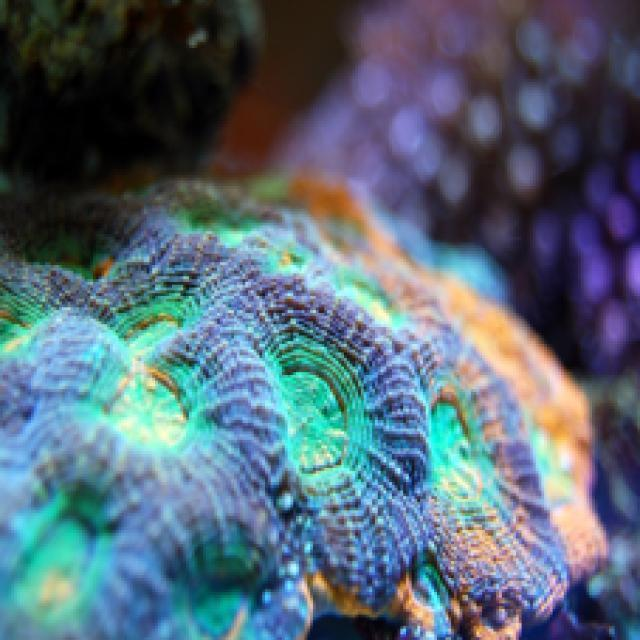Healthy: (1, 250, 565, 622)
